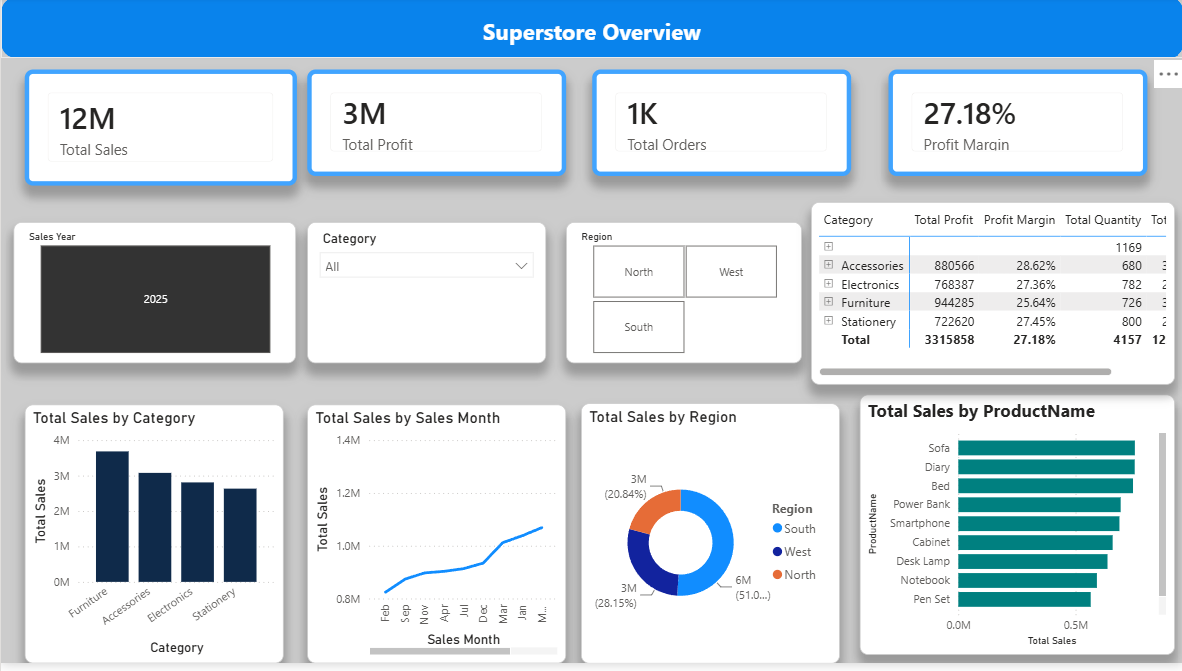

Layout of this report page (visuals, bound fields, positions):
{"tool":"powerbi","page":{"name":"Page 1","canvas":[1280,720],"ordinal":0},"visuals":[{"type":"cardVisual","fields":{"Data":["Sales.Total Sales"]},"box":[25.7,78.4,294.7,125.7],"z":0},{"type":"columnChart","fields":{"Category":["Products.Category"],"Y":["Sales.Total Sales"]},"box":[25.7,440.7,279.8,279.8],"z":1000},{"type":"lineChart","fields":{"Y":["Sales.Total Sales"],"Category":["Sales.Sales Month"]},"box":[331.2,440.7,279.8,279.8],"z":2000},{"type":"donutChart","fields":{"Category":["Stores.Region"],"Y":["Sales.Total Sales"]},"box":[627.3,439.4,279.8,281.2],"z":3000},{"type":"barChart","title":"Total Sales by ProductName","fields":{"Category":["Products.ProductName"],"Y":["Sales.Total Sales"]},"box":[928.8,429.9,340.7,281.2],"z":4000},{"type":"cardVisual","fields":{"Data":["Sales.Total Profit"]},"box":[331.2,78.4,279.8,114.9],"z":5000},{"type":"cardVisual","fields":{"Data":["Sales.Total Orders"]},"box":[639.5,78.4,279.8,114.9],"z":6000},{"type":"cardVisual","fields":{"Data":["Sales.Profit Margin"]},"box":[959.9,78.4,279.8,114.9],"z":7000},{"type":"slicer","fields":{"Values":["Sales.Sales Year"]},"box":[13.5,243.3,305.5,152.8],"z":8000},{"type":"slicer","fields":{"Values":["Products.Category"]},"box":[331.2,243.3,258.2,152.8],"z":9000},{"type":"slicer","fields":{"Values":["Stores.Region"]},"box":[611.1,243.3,255.5,152.8],"z":10000},{"type":"pivotTable","fields":{"Rows":["Products.Category","Products.ProductName"],"Values":["Sales.Total Profit","Sales.Profit Margin","Sales.Total Quantity","Sales.Total Sales"]},"box":[876,221.7,393.4,197.4],"z":11000},{"type":"shape","box":[0,0,1280.3,66.2],"z":12000},{"type":"textbox","box":[516.4,16.2,623.2,50],"z":13000}]}

Visuals, with their boxes in screenshot pixels (x1, y1, x2, y2), scaled from the page's 1280x720 canvas onto the 1182x671 screenshot:
cardVisual - Sales.Total Sales: bbox=[24, 73, 296, 190]
columnChart - Products.Category x Sales.Total Sales: bbox=[24, 411, 282, 670]
lineChart - Sales.Total Sales x Sales.Sales Month: bbox=[306, 411, 564, 670]
donutChart - Stores.Region x Sales.Total Sales: bbox=[579, 409, 838, 670]
"Total Sales by ProductName" barChart: bbox=[858, 401, 1172, 663]
cardVisual - Sales.Total Profit: bbox=[306, 73, 564, 180]
cardVisual - Sales.Total Orders: bbox=[591, 73, 849, 180]
cardVisual - Sales.Profit Margin: bbox=[886, 73, 1145, 180]
slicer - Sales.Sales Year: bbox=[12, 227, 295, 369]
slicer - Products.Category: bbox=[306, 227, 544, 369]
slicer - Stores.Region: bbox=[564, 227, 800, 369]
pivotTable - Products.Category x Products.ProductName: bbox=[809, 207, 1172, 391]
shape: bbox=[0, 0, 1181, 62]
textbox: bbox=[477, 15, 1052, 62]
